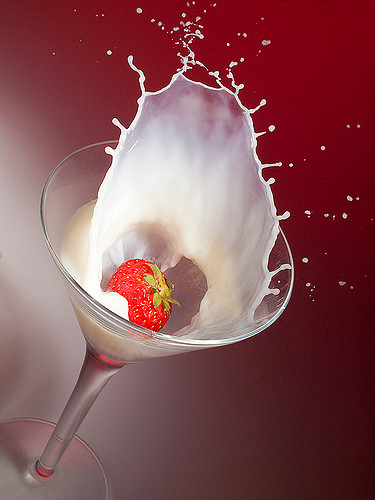glass of milk: (48, 77, 296, 364)
